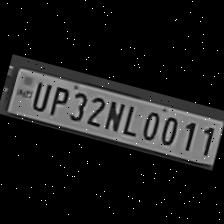0: (155, 110, 182, 148), (136, 105, 164, 141)
1: (192, 120, 218, 156), (176, 116, 200, 153)
2: (81, 90, 108, 128)
3: (62, 85, 90, 122)
L: (119, 100, 144, 136)
N: (100, 94, 128, 132)
P: (44, 81, 71, 118)
U: (27, 76, 52, 112)
